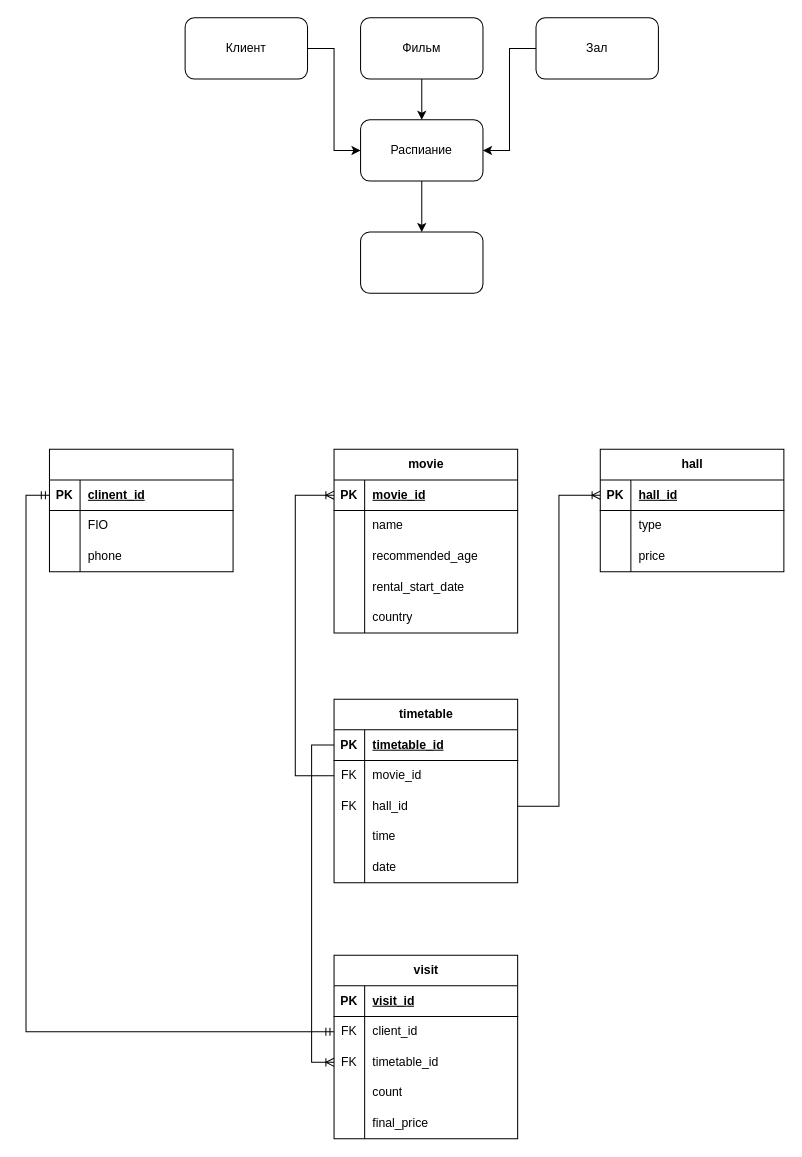
This 802x1157 diagram has some shape labels left out. The shapes that lost their labels are listed below. From the top down, each one's box as (x1, y1, x2, y2) in pixels, then its label:
(360, 231, 483, 293): Посещение
(48, 448, 233, 572): client
